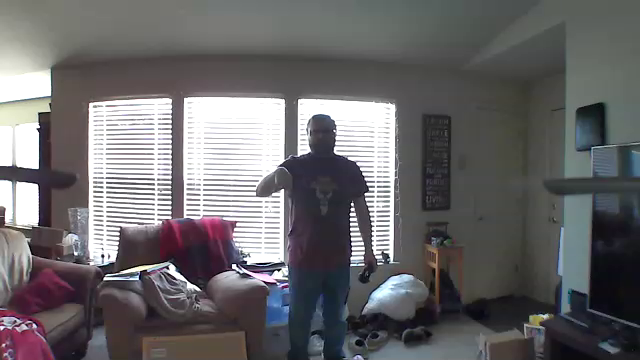down: (275, 162, 294, 205)
